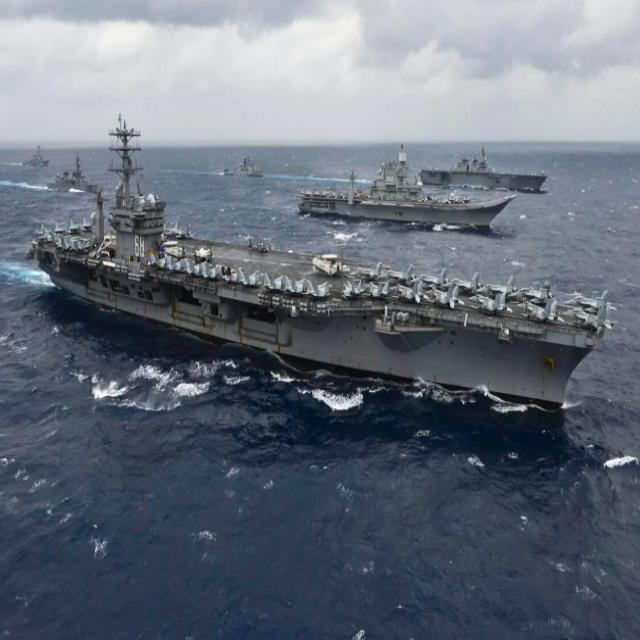navalvessels: (29, 121, 596, 418), (292, 139, 499, 246), (421, 124, 546, 207), (36, 150, 106, 192), (214, 148, 270, 176), (19, 139, 53, 180)
